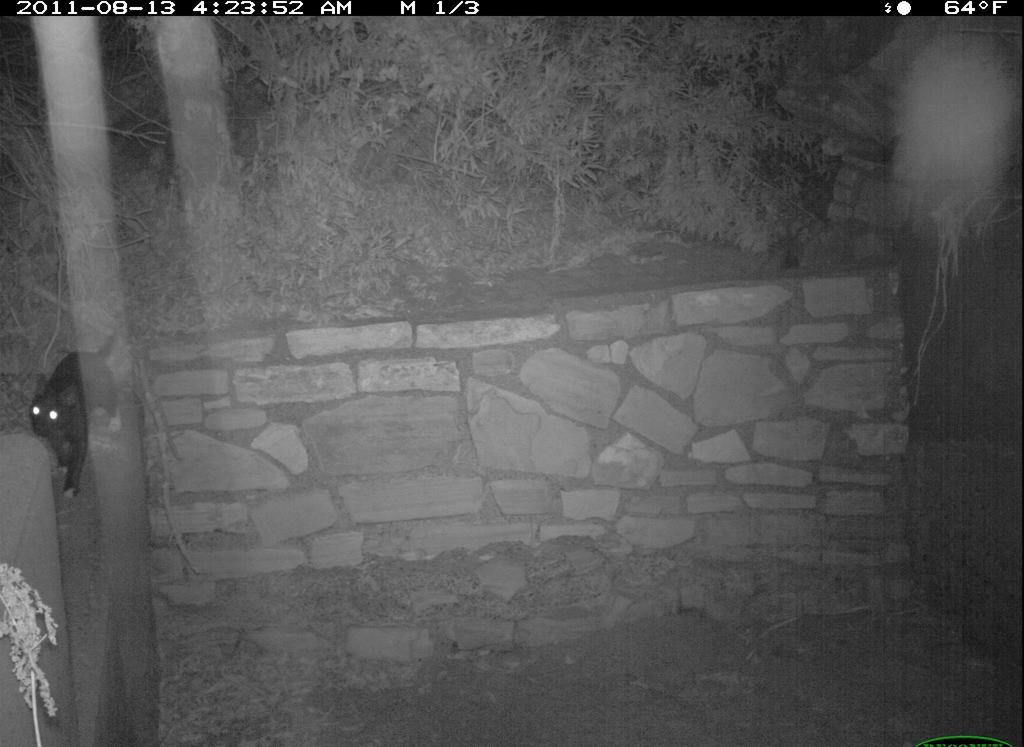cat: (22, 324, 131, 514)
